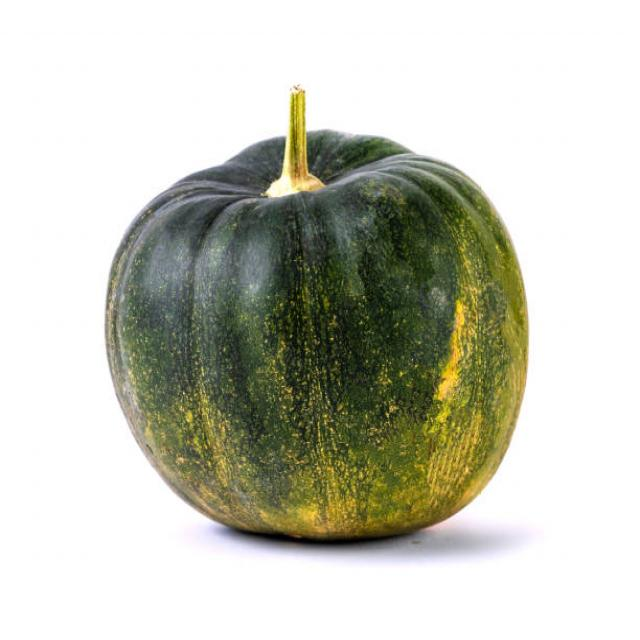Pumpkin: (100, 114, 533, 543)
